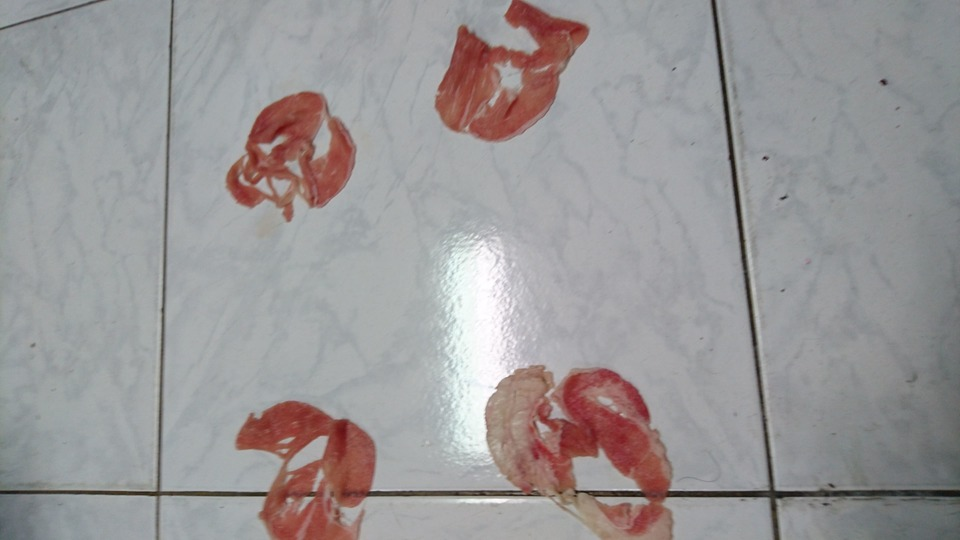restructured meat: (485, 355, 676, 540), (435, 4, 594, 147), (234, 396, 393, 539), (225, 88, 356, 224)
